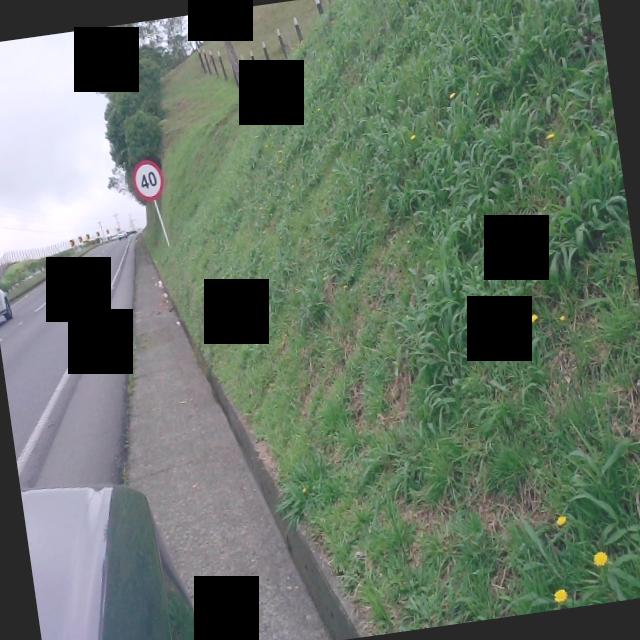DITCH: (88, 207, 363, 640)
